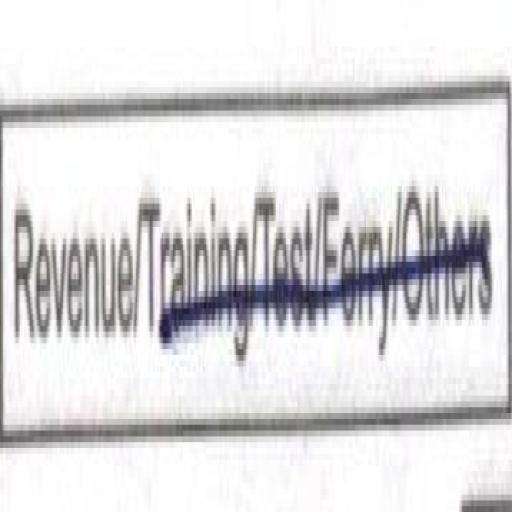check: (0, 35, 139, 512)
